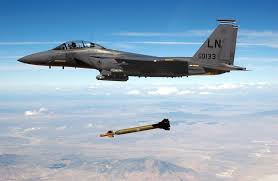fighter: (14, 15, 250, 83)
